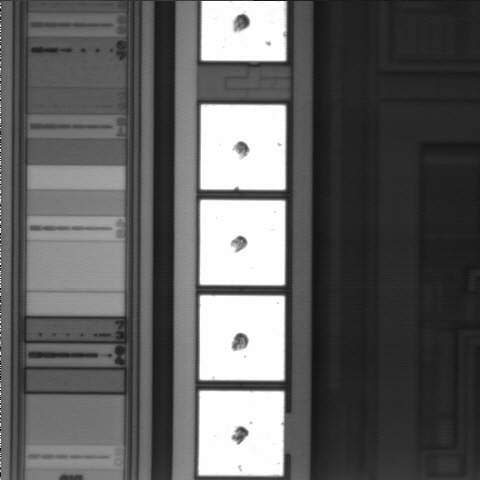pad: (200, 105, 286, 190), (200, 200, 285, 285), (200, 295, 285, 380), (199, 391, 284, 476)
